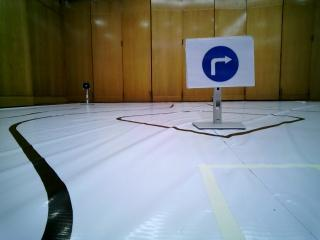right: (187, 38, 253, 86)
